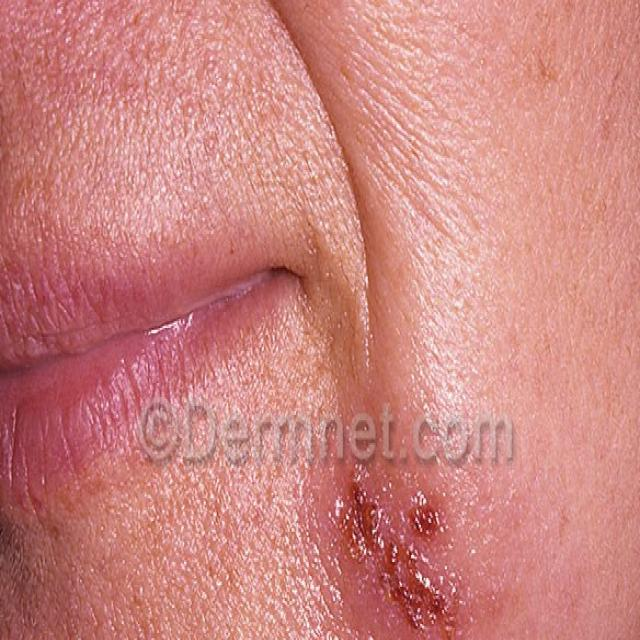Viral Infections: (313, 462, 484, 640)
